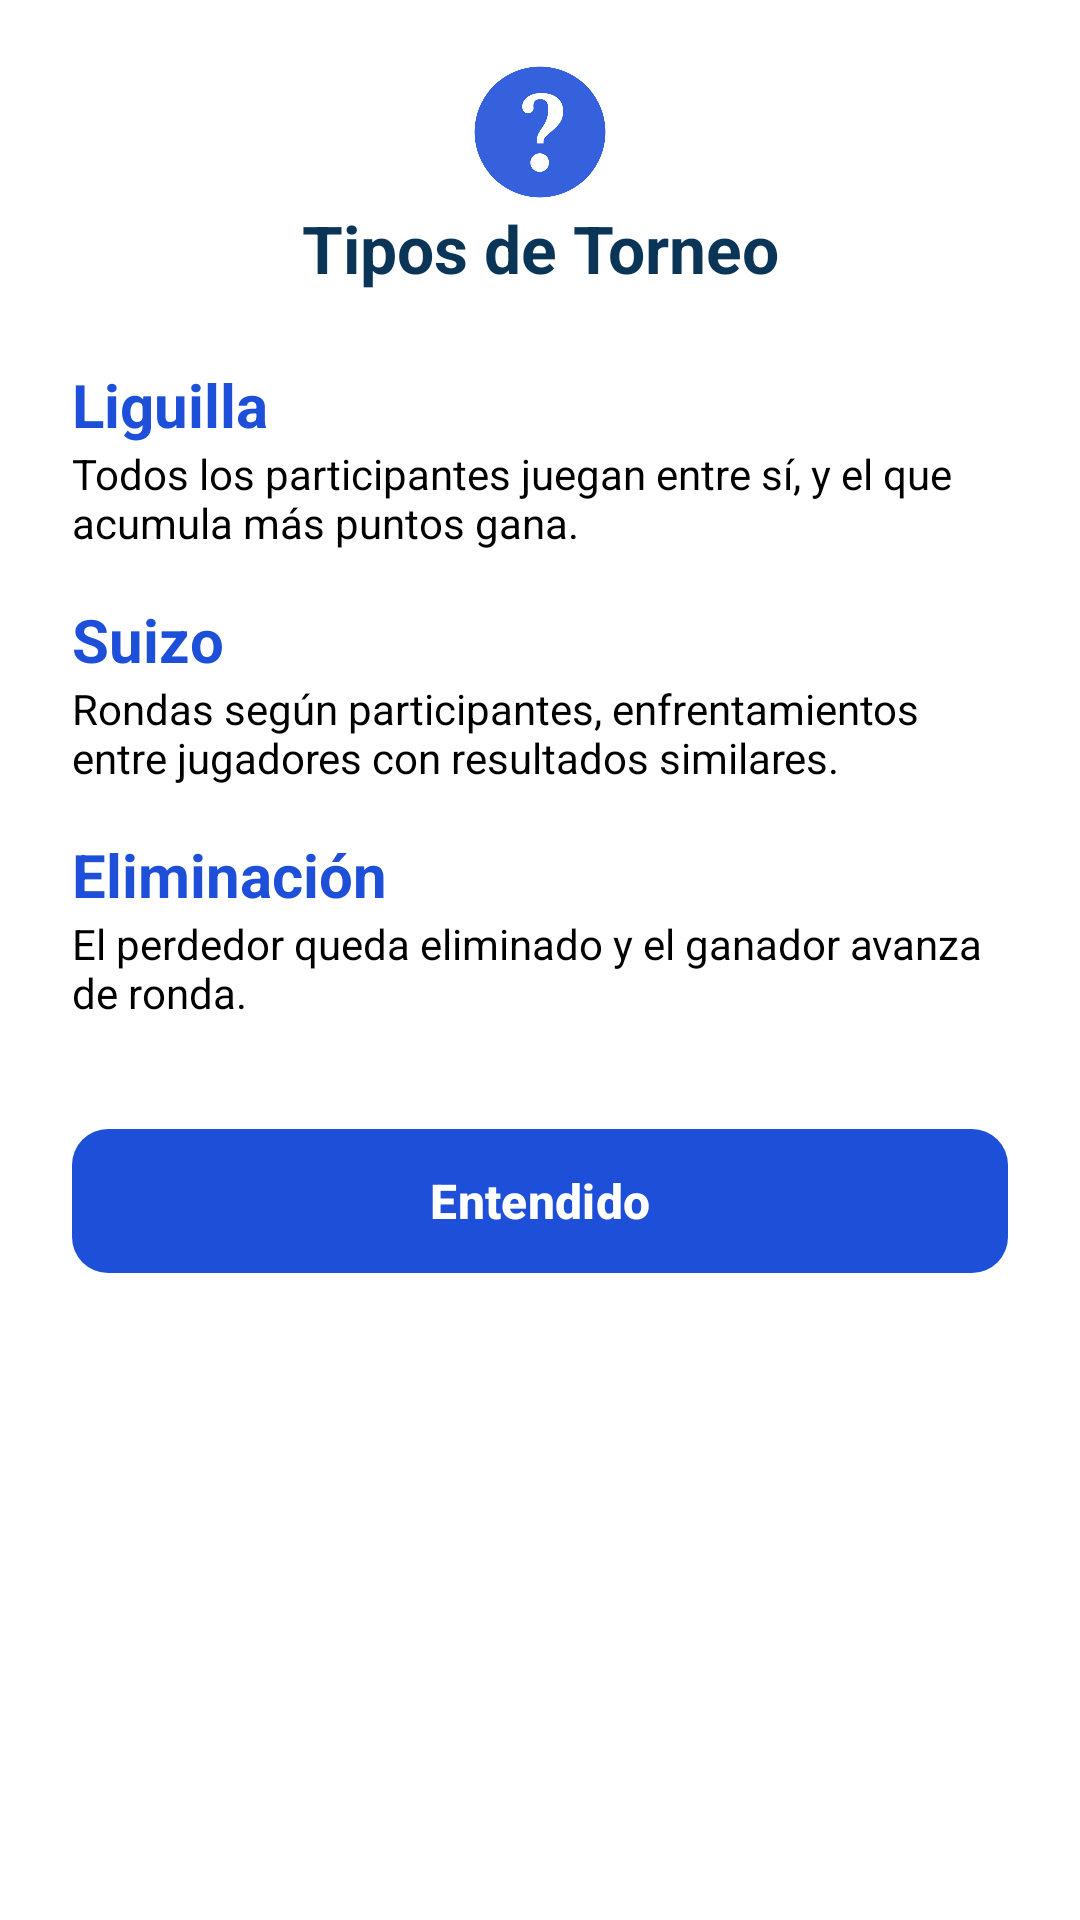

Named icons in this screenshot (1080px x 1920px) and their bounding boxes, bbox=(x1, y1, x2, y2):
help: bbox=(474, 66, 606, 198)
